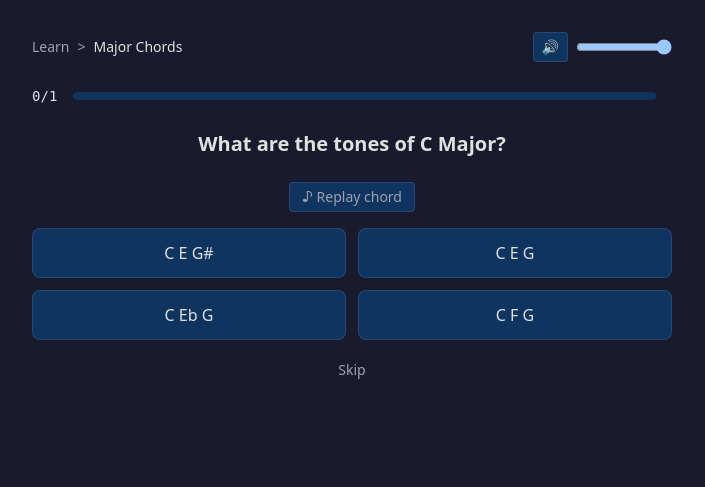
Test: FlashcardSession › shows guest sign-in prompt on session summary when not authenticated
Click the button with test id "option-C E G": (515, 253) left=358, top=228, right=672, bottom=278
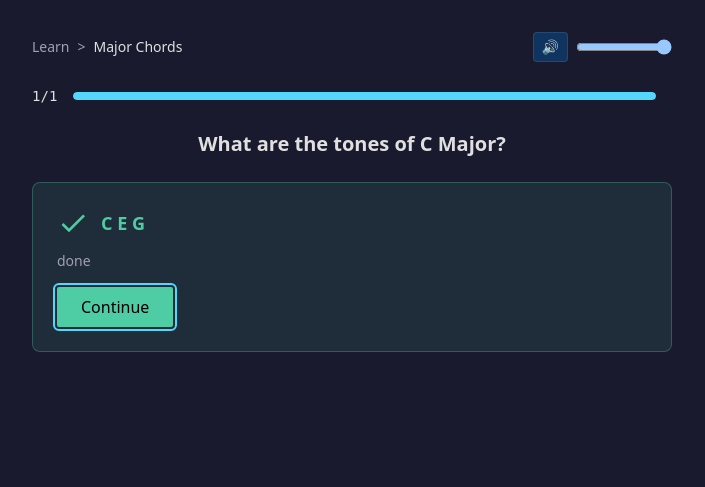
Now the button with test id "continue-button" is shown
Click the button with test id "continue-button": (115, 307) left=57, top=287, right=173, bottom=327
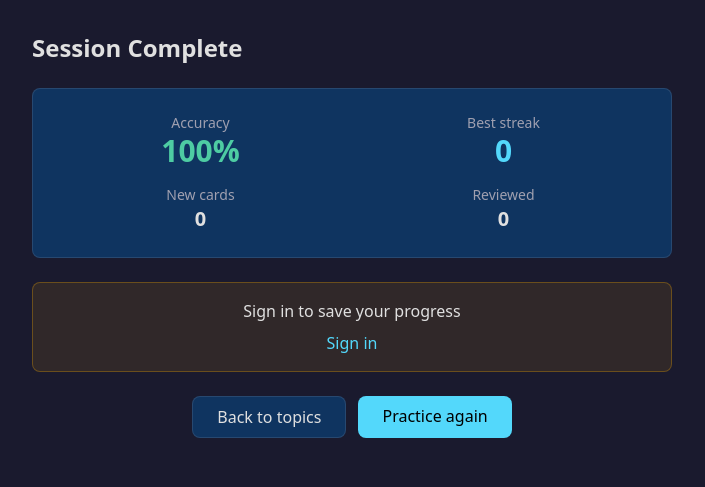
Now the element with test id "session-summary" is shown
Now the element with test id "guest-prompt" is shown, box left=32, top=282, right=672, bottom=372
Now the text "Sign in to save your progress" is shown, box left=243, top=300, right=461, bottom=322
